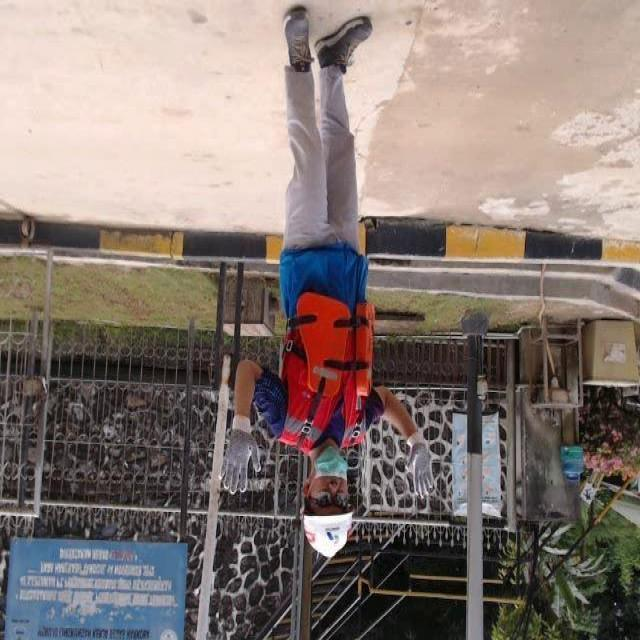safetyhelmet: (287, 455, 365, 561)
